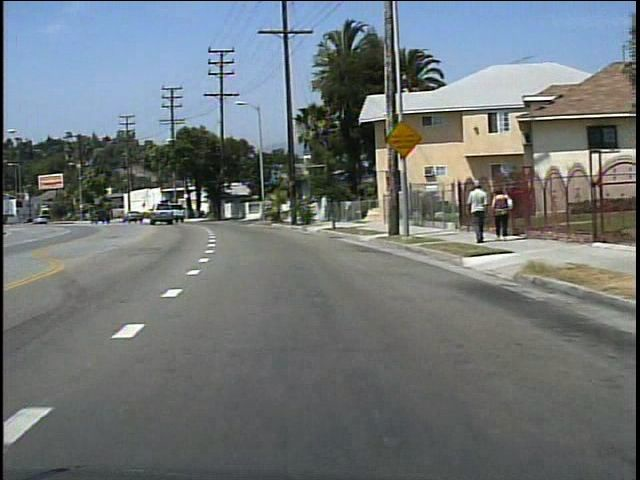person: (487, 186, 513, 244), (464, 179, 486, 244)
